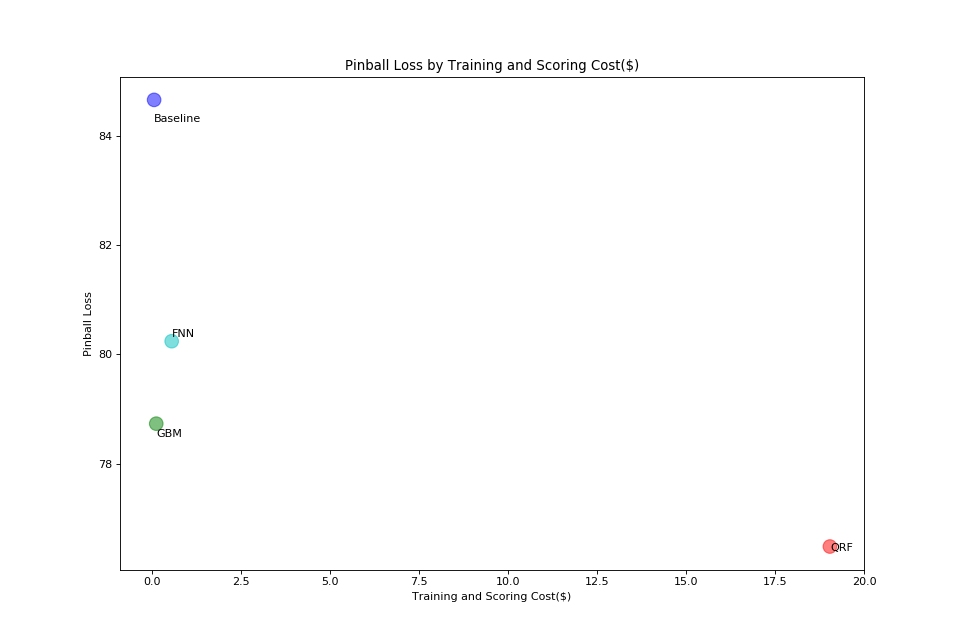

This screenshot's page, from the dashboard's own definition file:
{"tool":"powerbi","page":{"name":"Cost - Energy","canvas":[1280,720],"ordinal":4},"visuals":[{"type":"scatterChart","fields":{"Category":["Energy.Submission Name"],"X":["Sum(Energy.Training and Scoring Cost)"],"Y":["Sum(Energy.Pinball Loss)"],"Series":["Energy.Submission Name"]},"box":[162.3,22.2,840.9,698.4],"z":1}]}

Visuals, with their boxes on the page's 1280x720 design canvas (x1, y1, x2, y2). These are canvas units, not pixel positions in the 960x640 screenshot, which may show the page scaled, cropped or inside an application window:
scatterChart - Energy.Submission Name x Sum(Energy.Training and Scoring Cost): bbox(162, 22, 1003, 721)
